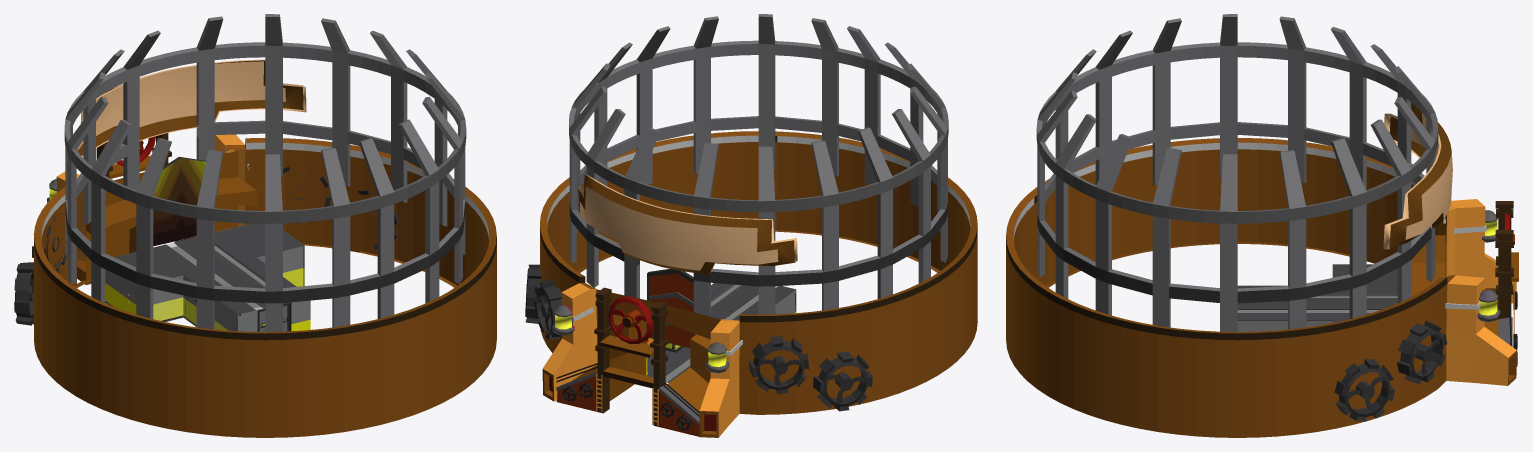
The model's file is MenuArena 1.fbx.
3 renders of one model, left to right at view 1: azimuth 30°, elevation 25°; view 2: azimuth 150°, elevation 25°; view 3: azimuth 270°, elevation 25°, orthographic. The views are drawn at different scales.
Parts seen in each view (by area): view 1: arena, teto, portaria, parede, portao.001, portao; view 2: arena, portaria, portao.001, teto, piso, parede; view 3: arena, portaria, teto, parede.
Part boxes in pixels (x1,y1,x2,y2): arena: (14,14,496,437); teto: (114,223,303,314); portaria: (77,133,256,284); parede: (105,225,310,331); portao.001: (153,156,205,246); portao: (257,302,291,331); arena: (525,14,977,437); portaria: (556,287,720,436); portao.001: (646,269,695,347); teto: (711,283,795,320); piso: (647,347,690,382); parede: (646,283,796,375); arena: (1006,14,1516,437); portaria: (1411,201,1518,366); teto: (1237,264,1397,322); parede: (1237,320,1332,331).
Bounding box in the file's own units: 4820 × 3007 × 5340.
